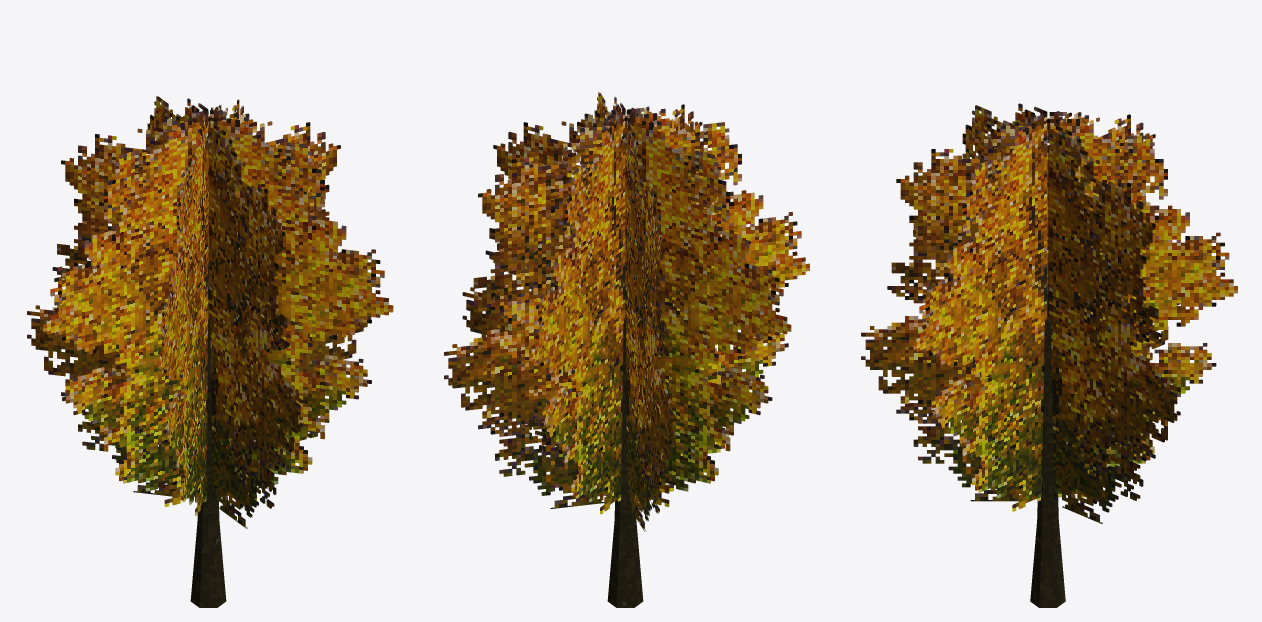
The model's file is tree32.glb.
The picture shows the model from 3 angles, left to right: view 1: azimuth 30°, elevation 25°; view 2: azimuth 150°, elevation 25°; view 3: azimuth 270°, elevation 25°; orthographic projection.
Visible parts, largest first — view 1: tree32; view 2: tree32; view 3: tree32.
Part boxes in pixels (x1,y1,x2,y2): tree32: (27, 96, 393, 607); tree32: (444, 92, 809, 607); tree32: (861, 103, 1237, 607).
Size of the model in its own units: 5.76 by 8 by 5.76.
Materials: 1 (1 with a texture image).
